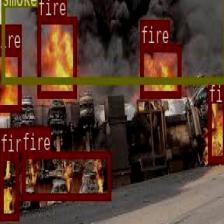fire: (22, 150, 110, 199), (37, 16, 76, 96), (140, 43, 180, 96), (207, 77, 224, 162), (0, 48, 20, 110), (0, 152, 18, 219)
smoke: (0, 0, 224, 82)
